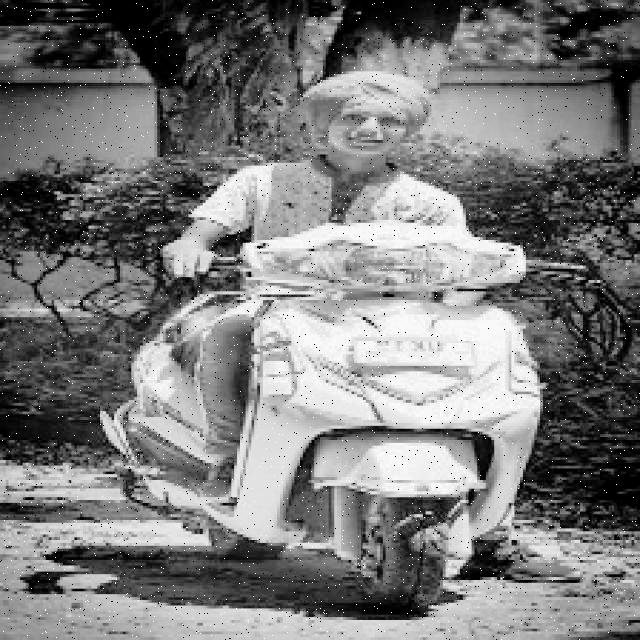Bike: (116, 247, 516, 609)
